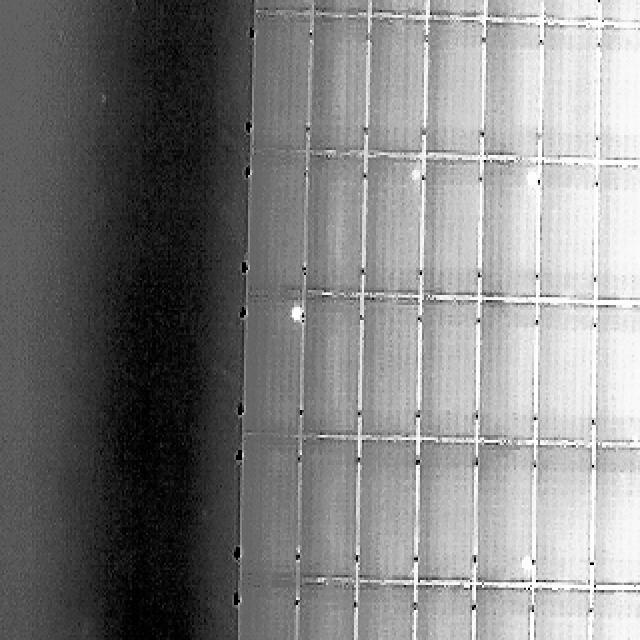Hotspots: (277, 298, 303, 326), (514, 166, 536, 195), (513, 554, 533, 580), (522, 170, 542, 193), (285, 302, 304, 325), (636, 313, 640, 335)
PV-modules: (359, 442, 421, 588), (414, 444, 476, 589), (301, 158, 362, 302), (240, 437, 300, 582), (419, 162, 480, 304), (534, 449, 595, 591), (296, 442, 356, 586), (248, 149, 308, 293), (416, 305, 477, 446), (470, 447, 530, 590), (472, 307, 532, 449), (536, 309, 596, 451), (298, 302, 358, 444), (538, 167, 598, 308), (483, 165, 543, 306), (366, 161, 426, 302), (244, 295, 304, 436), (306, 12, 366, 152), (363, 303, 422, 445), (486, 18, 546, 155), (541, 27, 600, 165), (368, 18, 427, 156), (252, 10, 310, 150), (424, 15, 481, 154), (588, 448, 640, 592), (590, 168, 640, 308), (594, 302, 640, 442), (594, 30, 640, 168), (292, 585, 352, 640), (238, 585, 298, 640), (356, 587, 418, 640), (466, 590, 526, 640), (412, 590, 472, 640), (530, 592, 592, 640), (586, 592, 640, 640), (538, 0, 597, 26), (594, 0, 640, 28), (484, 0, 546, 20), (427, 0, 487, 20), (368, 0, 428, 18), (310, 0, 370, 17), (252, 0, 312, 15)
